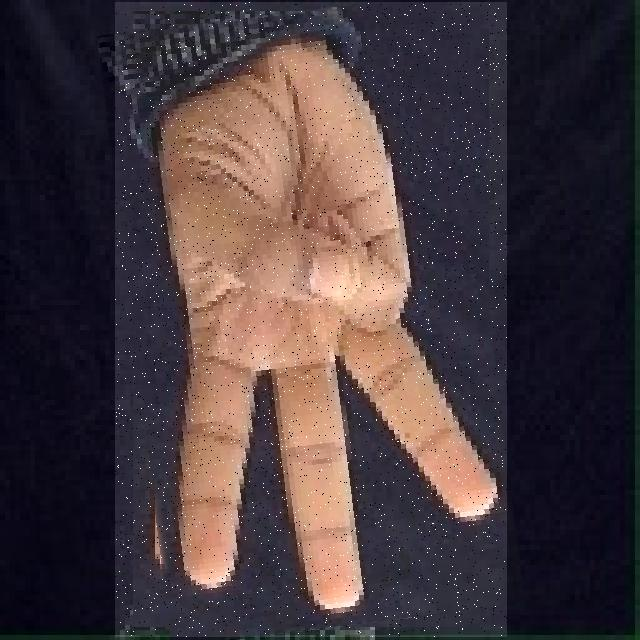Please: (115, 2, 507, 637)
